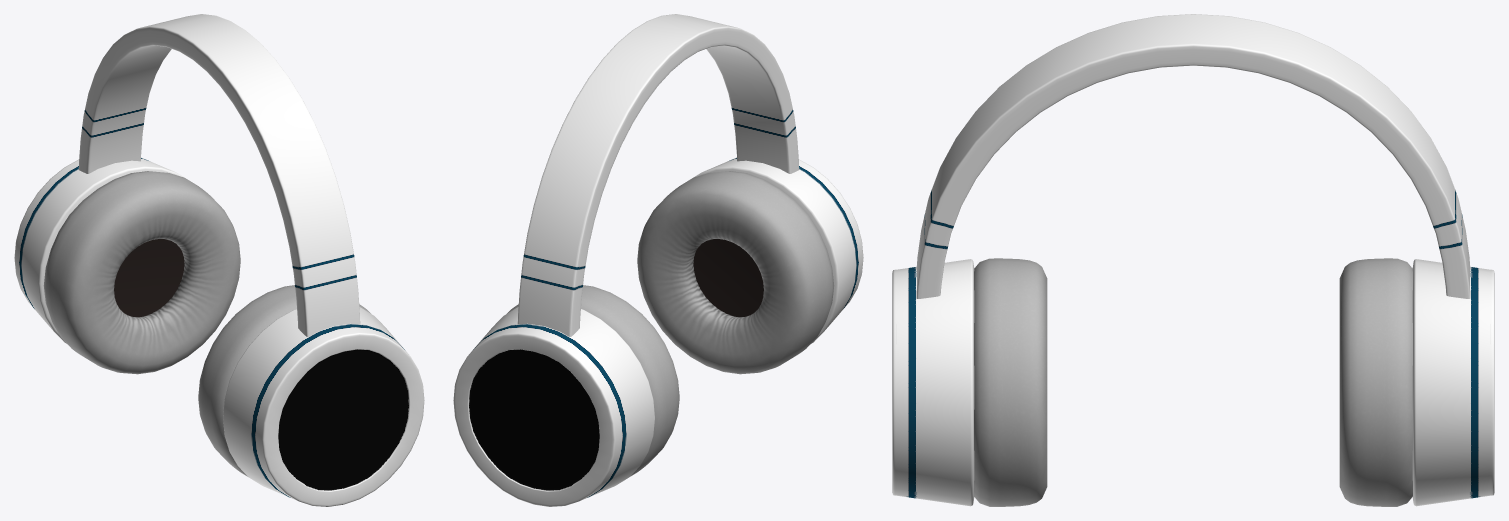
Rendered from Casque.fbx.
The picture shows the model from 3 angles, left to right: view 1: azimuth 30°, elevation 25°; view 2: azimuth 150°, elevation 25°; view 3: azimuth 270°, elevation 25°; orthographic projection. The views are drawn at different scales.
Visible parts, largest first — view 1: Casque Baked; view 2: Casque Baked; view 3: Casque Baked.
Part boxes in pixels (<box>): Casque Baked: <box>14,14,424,506</box>; Casque Baked: <box>453,14,863,506</box>; Casque Baked: <box>892,14,1494,506</box>.
Bounding box in the file's own units: 27.55 × 56.92 × 66.59.
